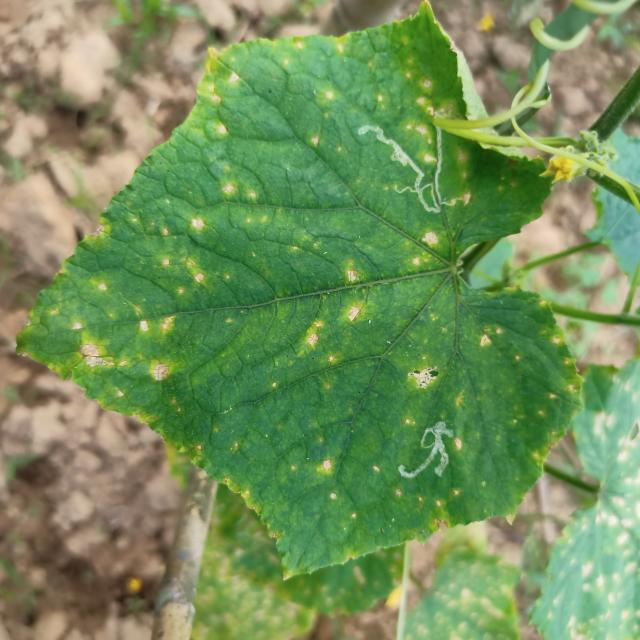disease_cucumber: (46, 127, 250, 411), (186, 34, 500, 213), (406, 307, 573, 514), (291, 218, 464, 365), (299, 452, 462, 522)
